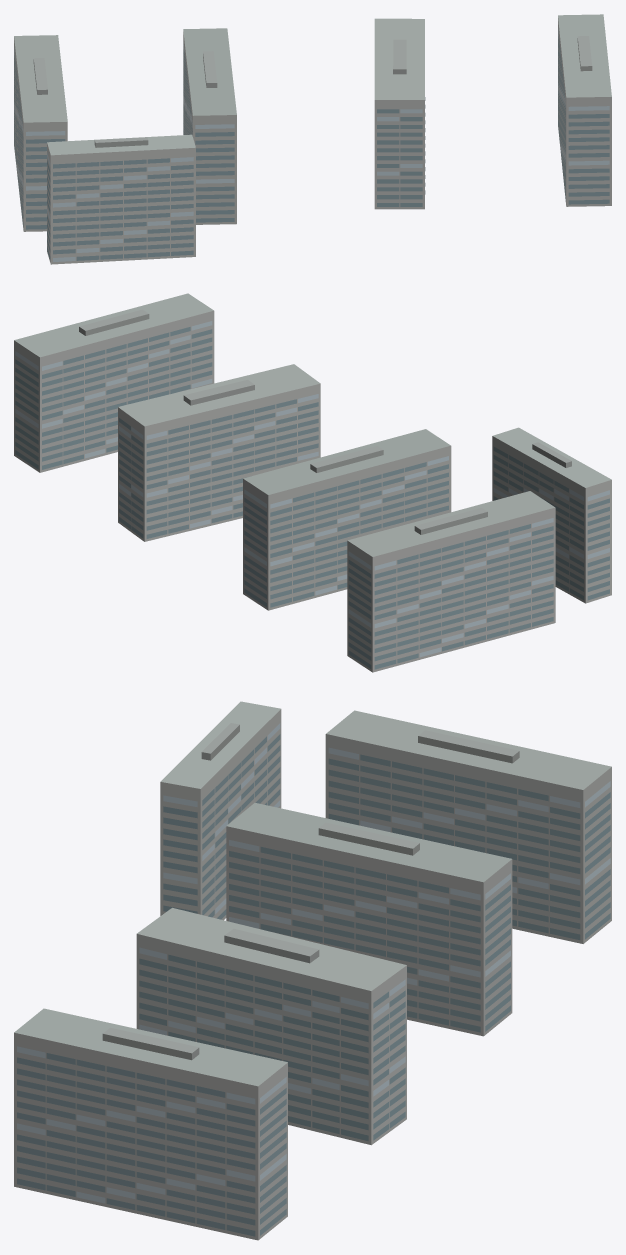
Rendered from apt-a13885303.glb.
3 views of the same model, one above another, from view 1: azimuth 30°, elevation 25°; view 2: azimuth 150°, elevation 25°; view 3: azimuth 270°, elevation 25° (orthographic). The views are drawn at different scales.
Visible parts, largest first — view 1: apt-a13885303; view 2: apt-a13885303; view 3: apt-a13885303.
Part boxes in pixels (<box>): apt-a13885303: <box>14,14,611,264</box>; apt-a13885303: <box>14,293,611,672</box>; apt-a13885303: <box>14,701,611,1240</box>.
Bounding box in the file's own units: 229 × 44.62 × 150.
